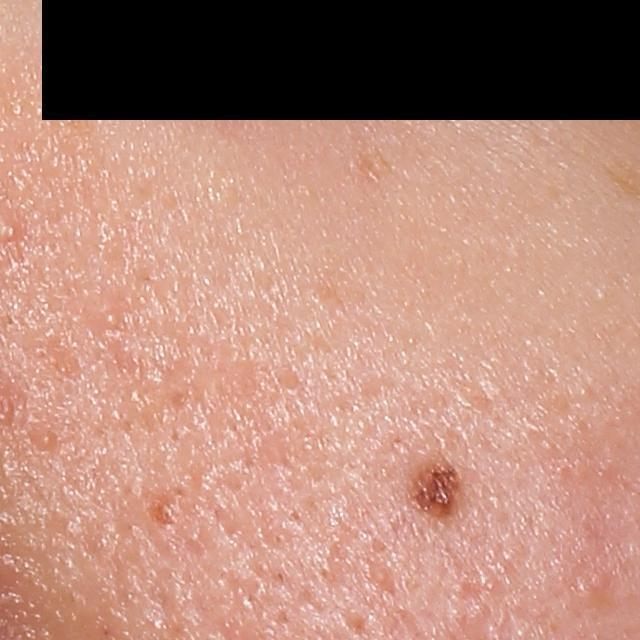comedo: (93, 301, 131, 340), (30, 428, 59, 453), (584, 570, 611, 594)
nevus: (404, 445, 476, 531)
